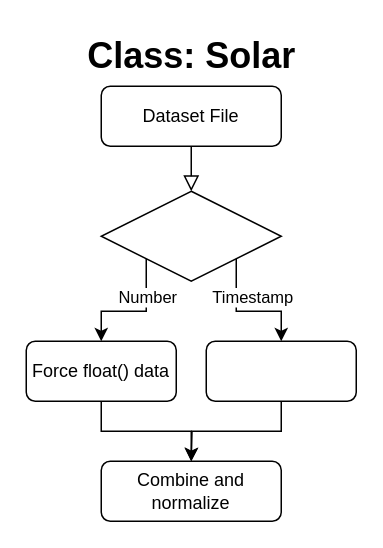
Some shapes in this 383 by 548 pixel diagram are drawn without their labels. The shapes that lost their labels are listed below. From the top down, each one's centre as x and y in pixels, then its label:
the point at 190,235: Data type
the point at 280,370: Convert to datetime (as a float value)
